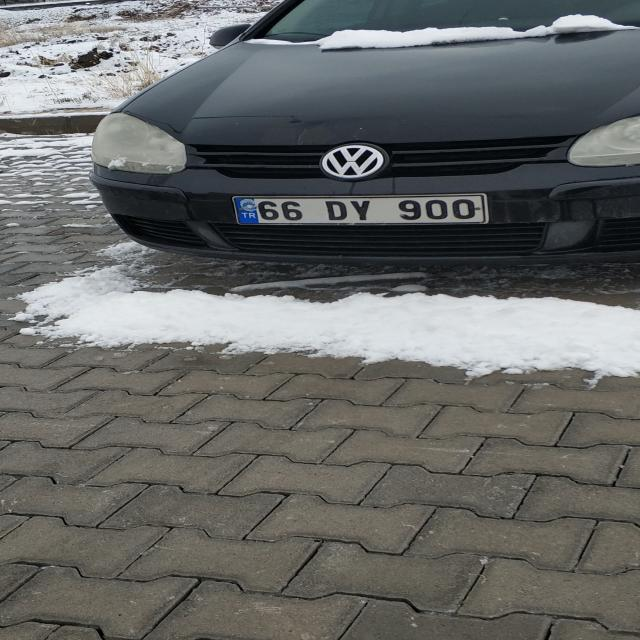plate: (232, 193, 488, 224)
